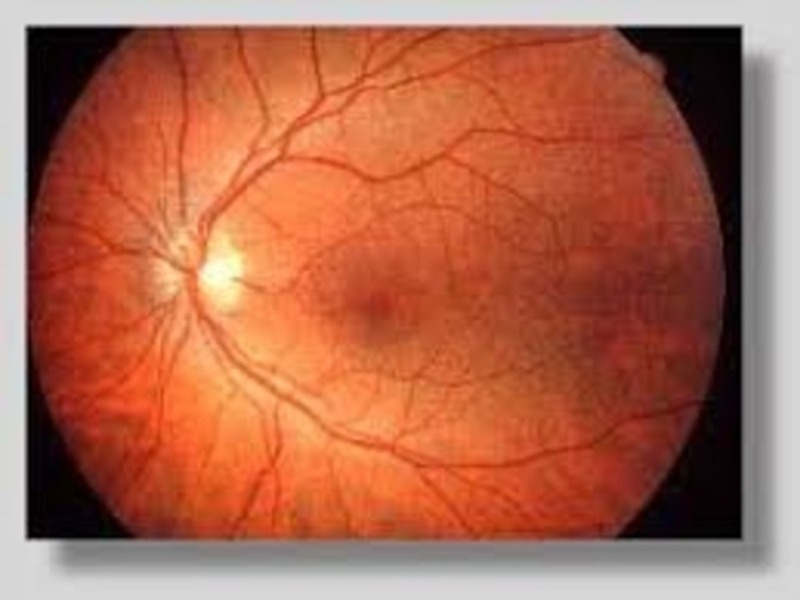Optic Cup: (204, 252, 245, 298)
Optic Disc: (145, 214, 251, 318)
